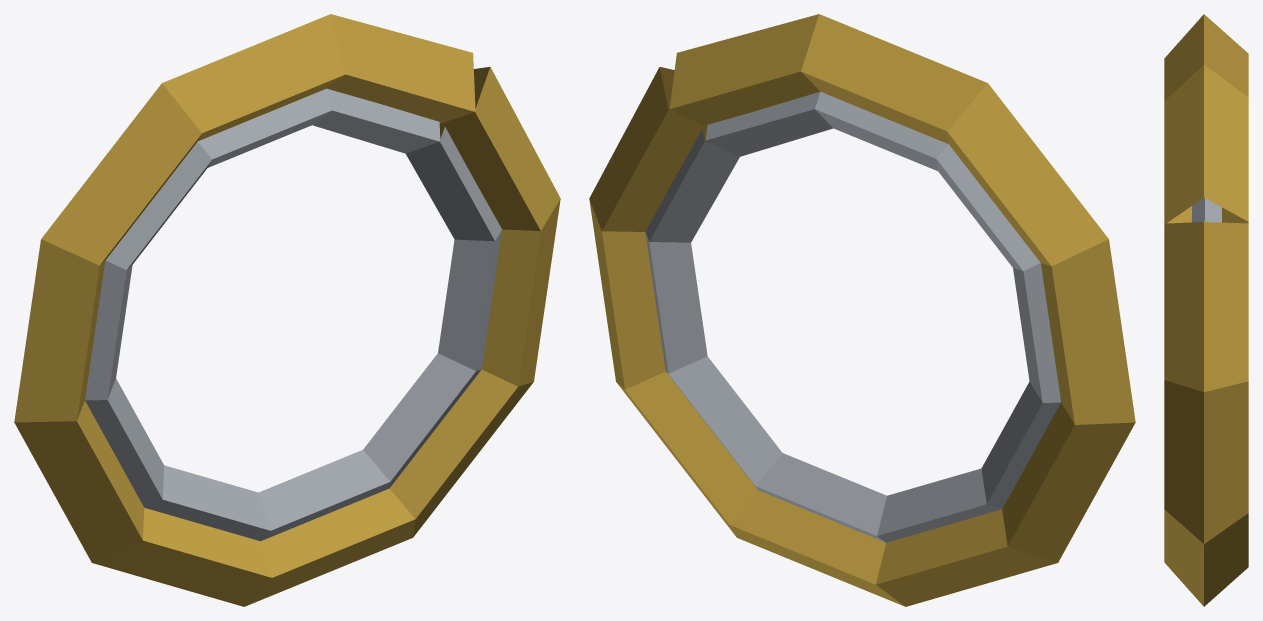
File: gear_chakram.glb
3 renders of one model, left to right at view 1: azimuth 30°, elevation 25°; view 2: azimuth 150°, elevation 25°; view 3: azimuth 270°, elevation 25°, orthographic. The views are drawn at different scales.
Parts seen in each view (by area): view 1: gear_chakram; view 2: gear_chakram; view 3: gear_chakram.
Part boxes in pixels (x1=…): gear_chakram: x1=14, y1=14, x2=560, y2=606; gear_chakram: x1=589, y1=14, x2=1135, y2=606; gear_chakram: x1=1164, y1=14, x2=1248, y2=606.
Size of the model in its own units: 0.2488 by 0.2488 by 0.0359.
